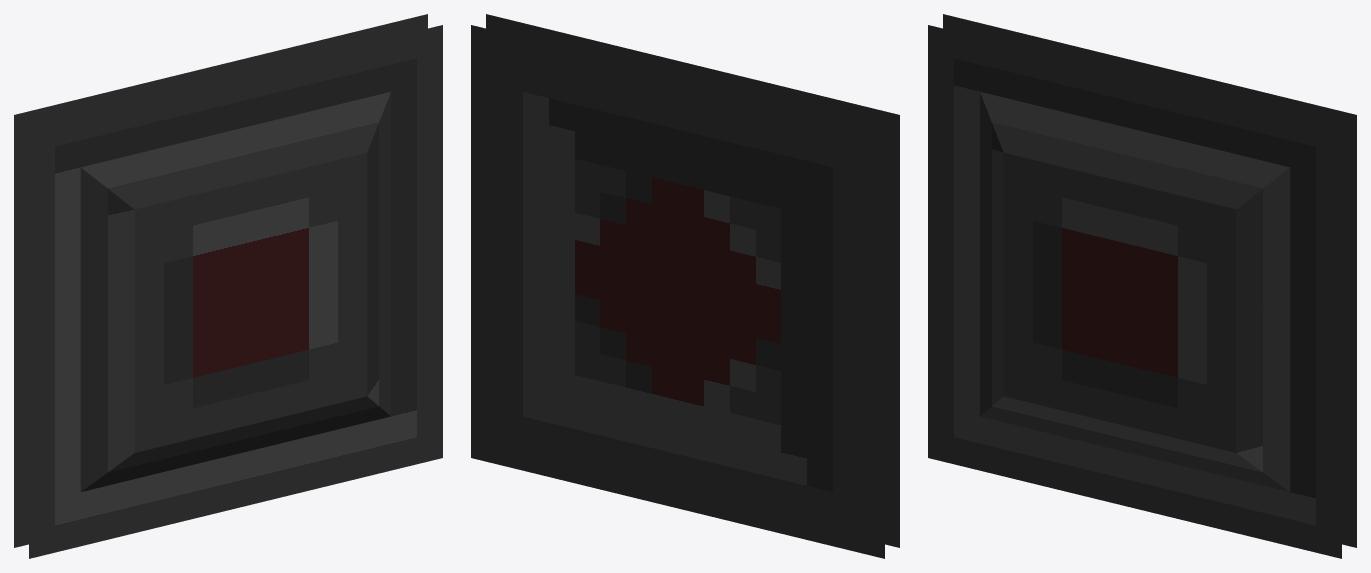
File: warpplate.obj
3 views of the same model, side by side, from view 1: azimuth 30°, elevation 25°; view 2: azimuth 150°, elevation 25°; view 3: azimuth 330°, elevation 25° (orthographic).
Parts seen in each view (by area): view 1: Cube.001; view 2: Cube.001; view 3: Cube.001.
Part boxes in pixels (x1,y1,x2,y2): Cube.001: (14,14,442,558); Cube.001: (471,14,899,558); Cube.001: (928,14,1356,558).
Size of the model in its own units: 1 by 1 by 0.125.
